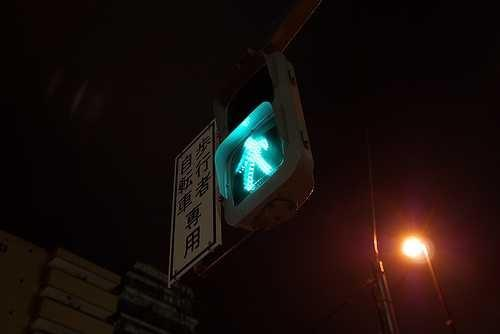green: (217, 115, 295, 205)
